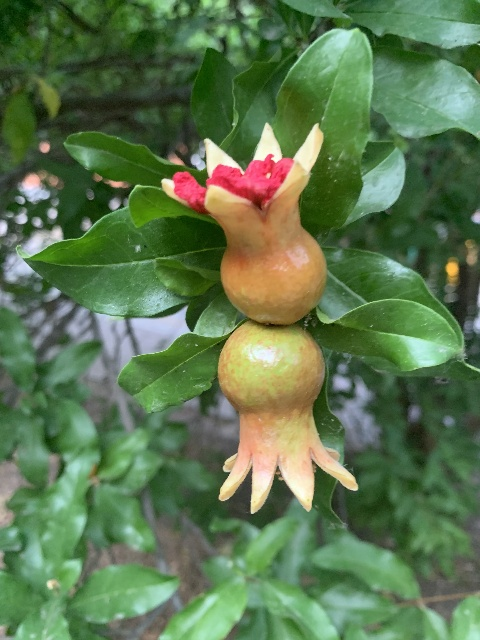early-fruit: (160, 121, 324, 326), (217, 321, 356, 513)
